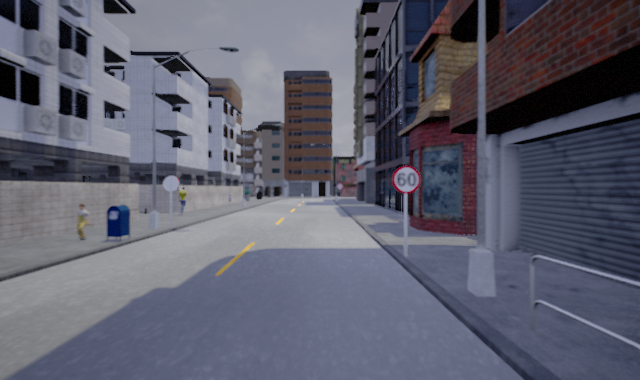pedestrian: (72, 199, 90, 242), (174, 185, 190, 215)
traffic_sign: (391, 162, 423, 194)
